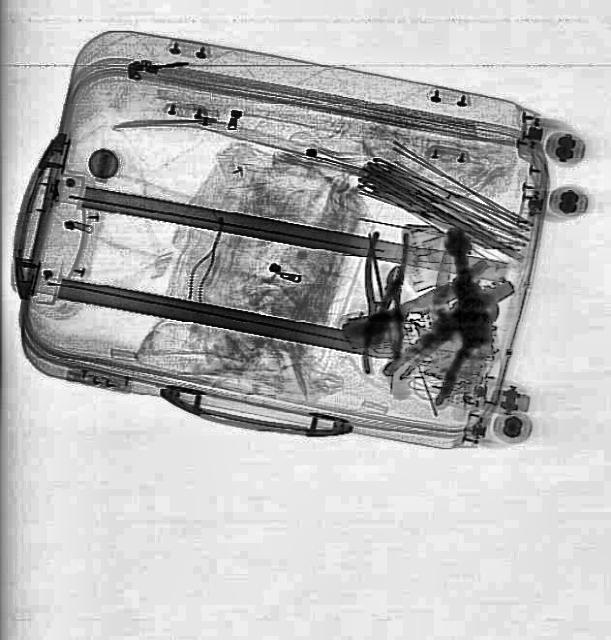Pliers: (355, 260, 421, 376), (353, 230, 411, 344)
